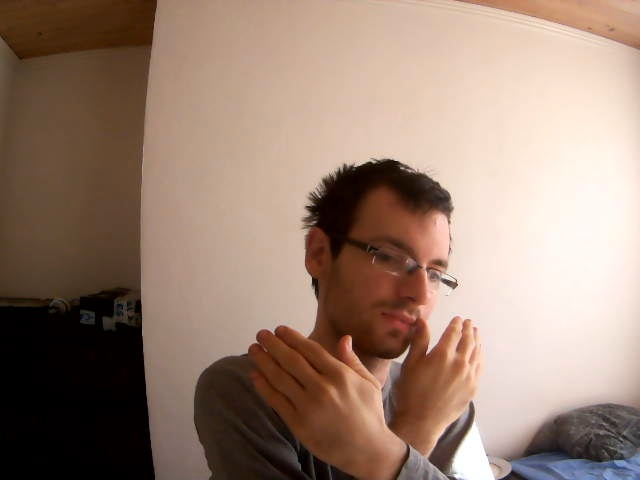butterfly: (241, 313, 484, 456)
